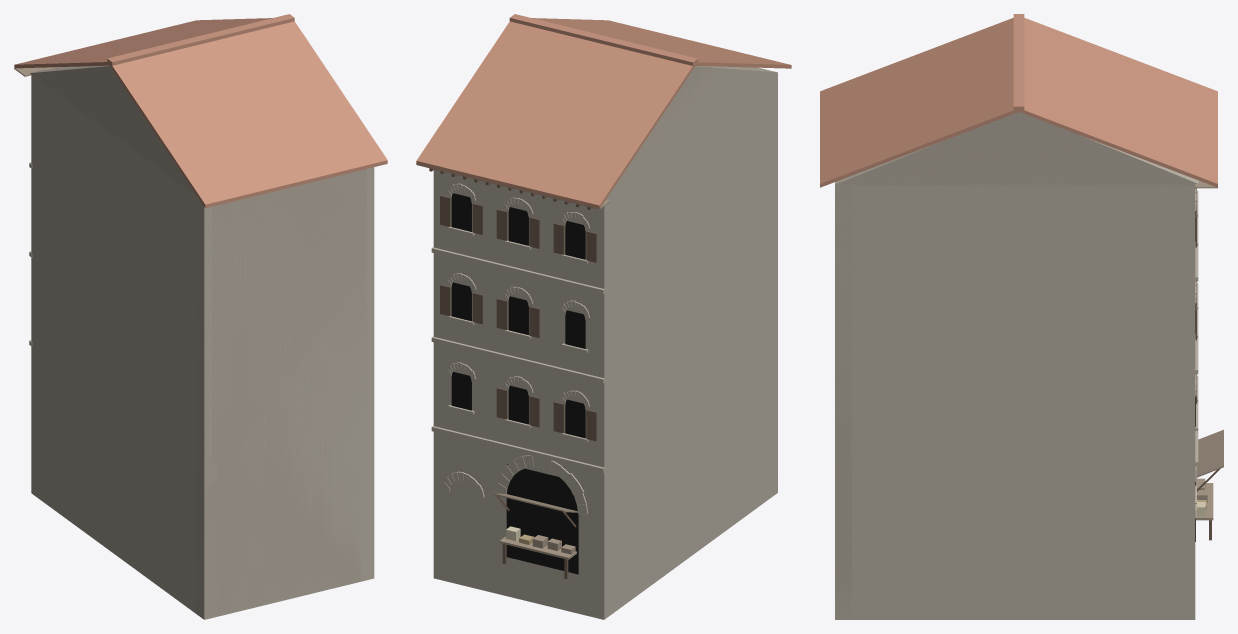
Rendered from casa-68-3-pietra.glb.
3 views of the same model, side by side, from view 1: azimuth 30°, elevation 25°; view 2: azimuth 150°, elevation 25°; view 3: azimuth 270°, elevation 25° (orthographic). The views are drawn at different scales.
Visible parts, largest first — view 1: vicino, lontano; view 2: lontano, vicino, aperta; view 3: vicino, lontano, aperta.
Part boxes in pixels (left/top/right/bottom): vicino: left=14, top=14, right=387, bottom=619; lontano: left=16, top=64, right=386, bottom=619; lontano: left=417, top=63, right=791, bottom=619; vicino: left=416, top=14, right=791, bottom=619; aperta: left=493, top=493, right=577, bottom=579; vicino: left=820, top=14, right=1217, bottom=619; lontano: left=820, top=109, right=1217, bottom=619; aperta: left=1196, top=429, right=1223, bottom=540.
Size of the model in its own units: 7.3 by 18.98 by 13.45.
